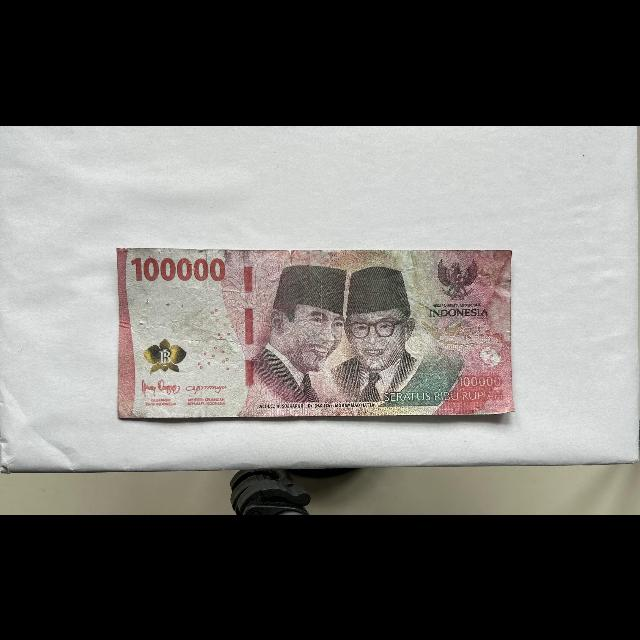Palsu-100k: (116, 245, 516, 420)
Tinta-Palsu-100k: (143, 338, 188, 373)
